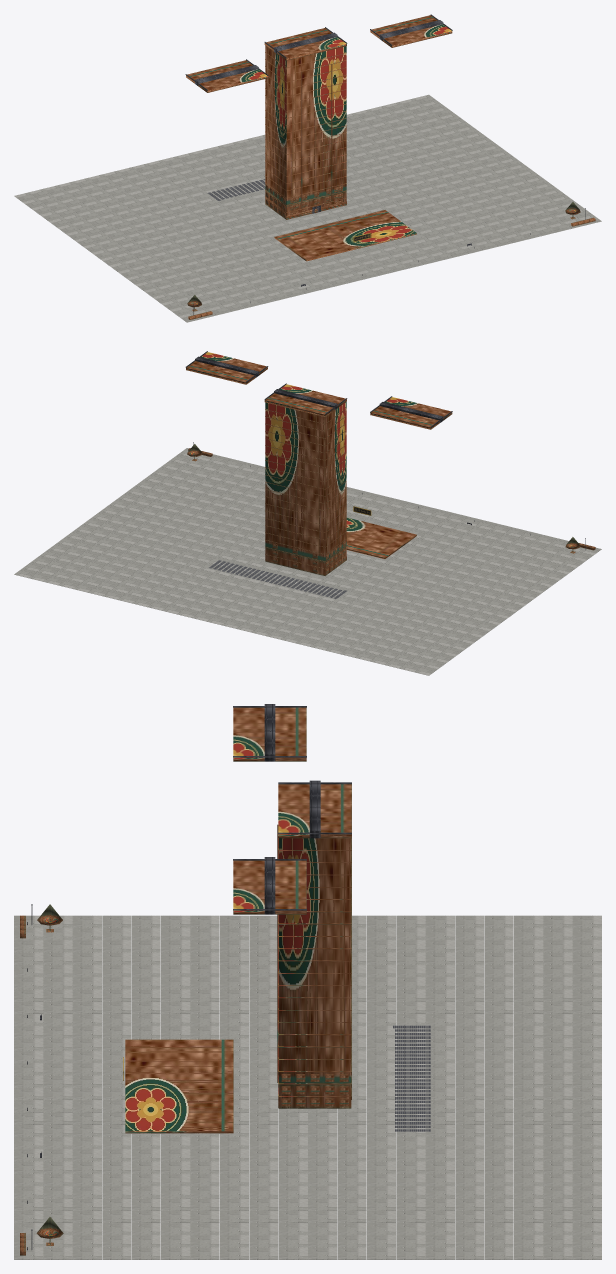
The picture shows the model from 3 angles, top to bottom: view 1: azimuth 30°, elevation 25°; view 2: azimuth 150°, elevation 25°; view 3: azimuth 270°, elevation 25°; orthographic projection. The views are drawn at different scales.
Parts seen in each view (by area): view 1: 11710_01_05554_024_01__plinth_ground_base, 11710_01_05554_024_02__mass_body_facade, 11710_01_05554_024_03__roof_metal_ornament, 11710_01_05554_024_06__landscape_greenery, 11710_01_05554_024_03__roof_deck_structure; view 2: 11710_01_05554_024_01__plinth_ground_base, 11710_01_05554_024_02__mass_body_facade, 11710_01_05554_024_03__roof_metal_ornament, 11710_01_05554_024_03__roof_deck_structure; view 3: 11710_01_05554_024_01__plinth_ground_base, 11710_01_05554_024_02__mass_body_facade, 11710_01_05554_024_03__roof_deck_structure, 11710_01_05554_024_03__roof_metal_ornament, 11710_01_05554_024_06__landscape_greenery.
Part boxes in pixels (left/top/right/bottom): 11710_01_05554_024_01__plinth_ground_base: left=14, top=94, right=601, bottom=322; 11710_01_05554_024_02__mass_body_facade: left=186, top=15, right=452, bottom=261; 11710_01_05554_024_03__roof_metal_ornament: left=185, top=14, right=452, bottom=90; 11710_01_05554_024_06__landscape_greenery: left=187, top=202, right=595, bottom=319; 11710_01_05554_024_03__roof_deck_structure: left=207, top=179, right=265, bottom=200; 11710_01_05554_024_01__plinth_ground_base: left=14, top=448, right=601, bottom=675; 11710_01_05554_024_02__mass_body_facade: left=186, top=352, right=452, bottom=575; 11710_01_05554_024_03__roof_metal_ornament: left=185, top=351, right=452, bottom=427; 11710_01_05554_024_03__roof_deck_structure: left=209, top=560, right=346, bottom=598; 11710_01_05554_024_01__plinth_ground_base: left=14, top=915, right=601, bottom=1259; 11710_01_05554_024_02__mass_body_facade: left=125, top=707, right=351, bottom=1133; 11710_01_05554_024_03__roof_deck_structure: left=393, top=1025, right=430, bottom=1131; 11710_01_05554_024_03__roof_metal_ornament: left=233, top=704, right=351, bottom=914; 11710_01_05554_024_06__landscape_greenery: left=20, top=904, right=63, bottom=1255.
Bounding box in the file's own units: 180 × 68.8 × 130.
Materials: 7 (7 with a texture image).
